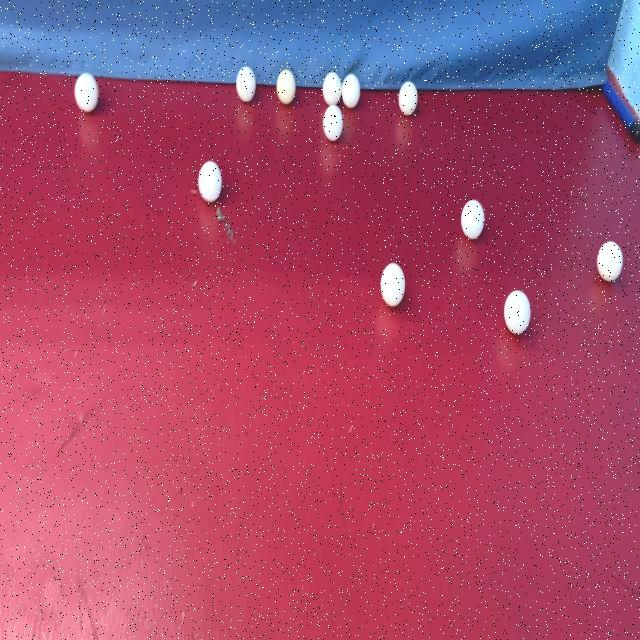ping-pong-ball: (501, 287, 535, 340), (378, 258, 408, 312), (70, 67, 102, 117), (594, 240, 624, 286), (458, 195, 486, 243), (198, 155, 223, 207), (232, 63, 259, 109), (396, 76, 421, 120), (320, 102, 344, 144), (272, 68, 298, 106), (342, 71, 362, 113), (322, 70, 344, 106)
